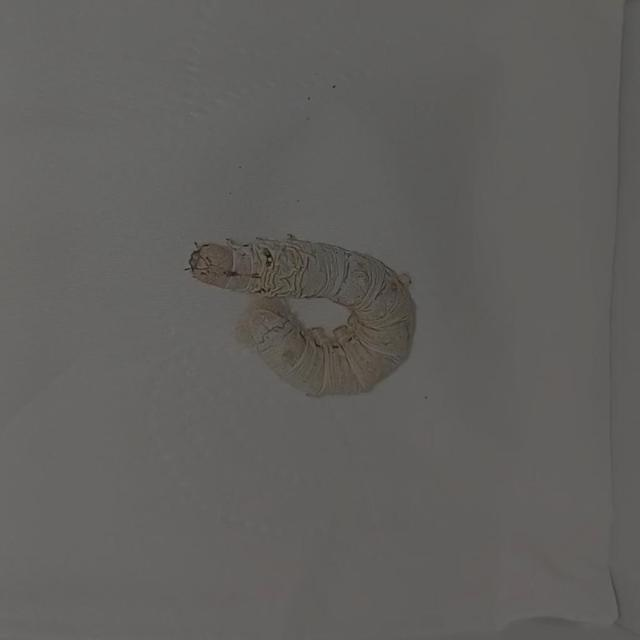Healthy: (179, 218, 423, 408)
